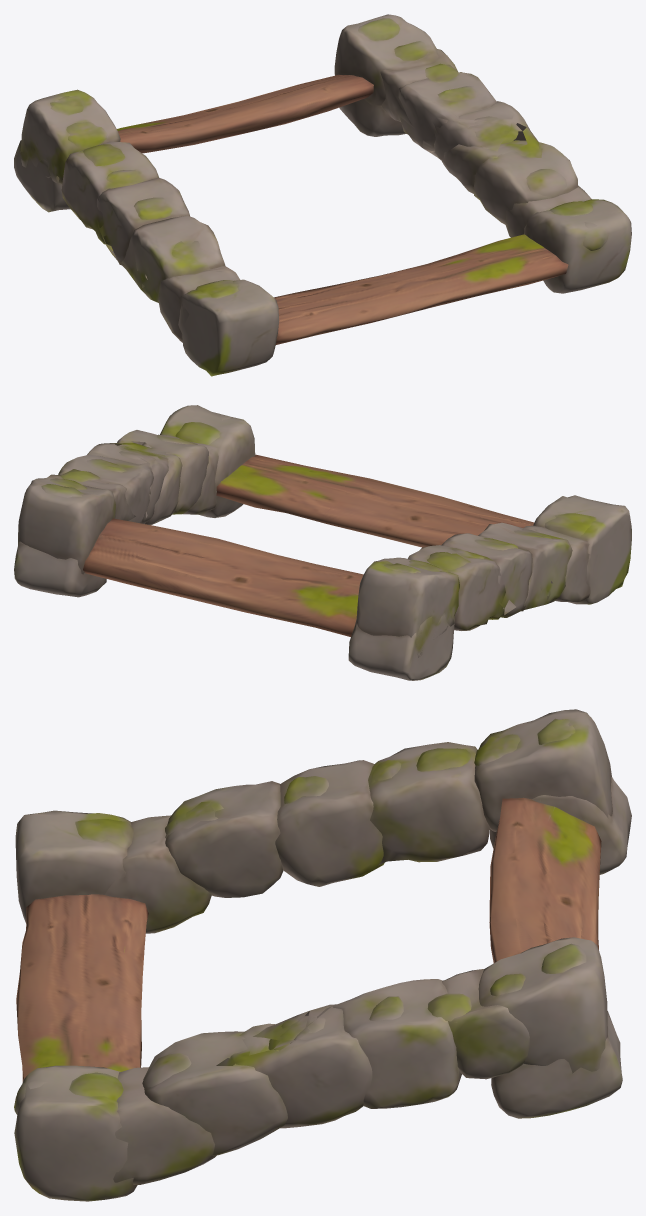
The model's file is borde_bancal.glb.
3 views of the same model, one above another, from view 1: azimuth 30°, elevation 25°; view 2: azimuth 150°, elevation 25°; view 3: azimuth 270°, elevation 25° (orthographic). The views are drawn at different scales.
Visible parts, largest first — view 1: borde_bancal; view 2: borde_bancal; view 3: borde_bancal.
Part boxes in pixels (x1=…): borde_bancal: x1=14, y1=14, x2=631, y2=376; borde_bancal: x1=14, y1=405, x2=631, y2=680; borde_bancal: x1=14, y1=709, x2=631, y2=1201.
Bounding box in the file's own units: 0.2855 × 0.0975 × 0.2525.
1 material, 1 textured.
